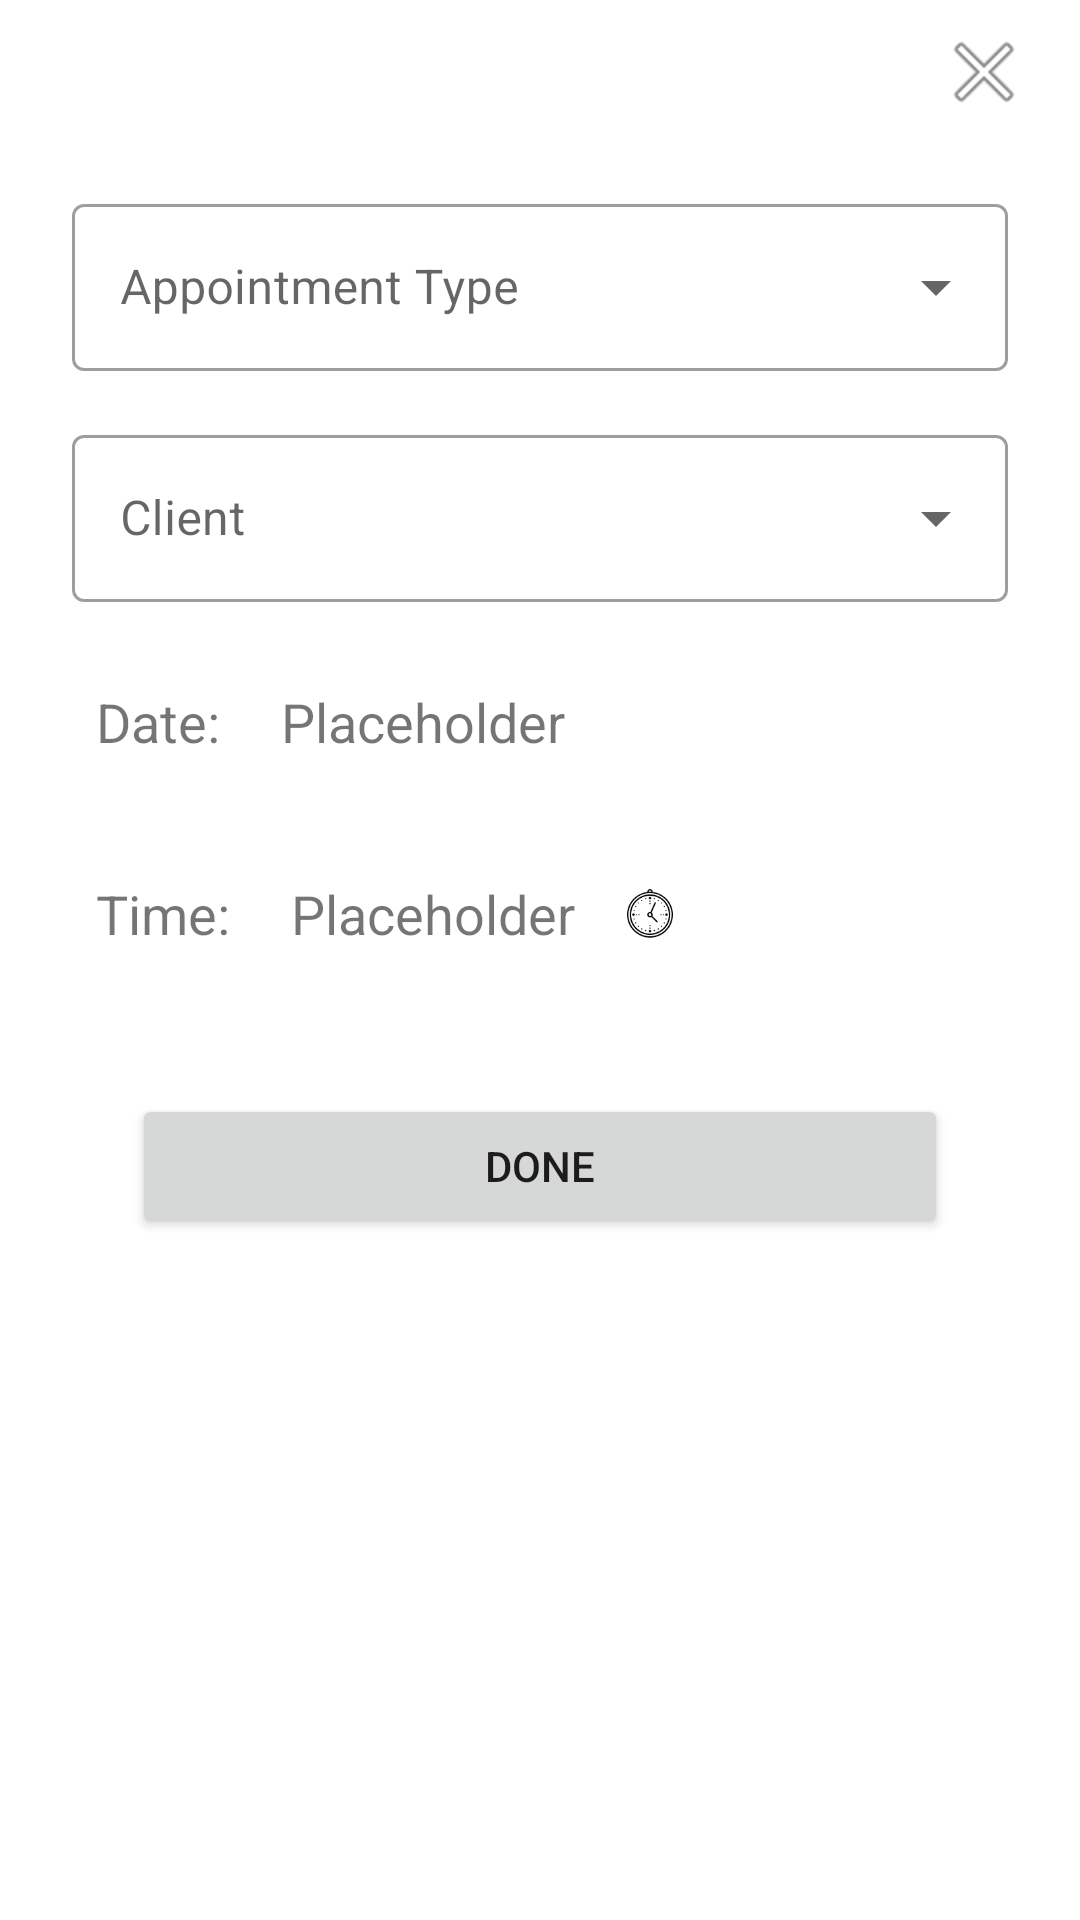

Where to tap for icons on this 1080w x 1920h app screen, as [x,y]:
clock: [650,913]
close clear cancel: [984,72]
